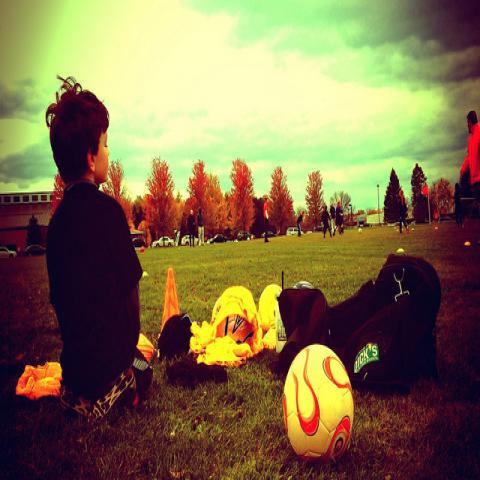car: (24, 244, 47, 257), (152, 236, 174, 248), (237, 230, 255, 241), (182, 234, 198, 246), (0, 247, 16, 259), (210, 234, 227, 245), (286, 227, 304, 237), (132, 237, 146, 248), (438, 216, 453, 223), (313, 225, 324, 234), (267, 230, 277, 236), (262, 232, 265, 238)
